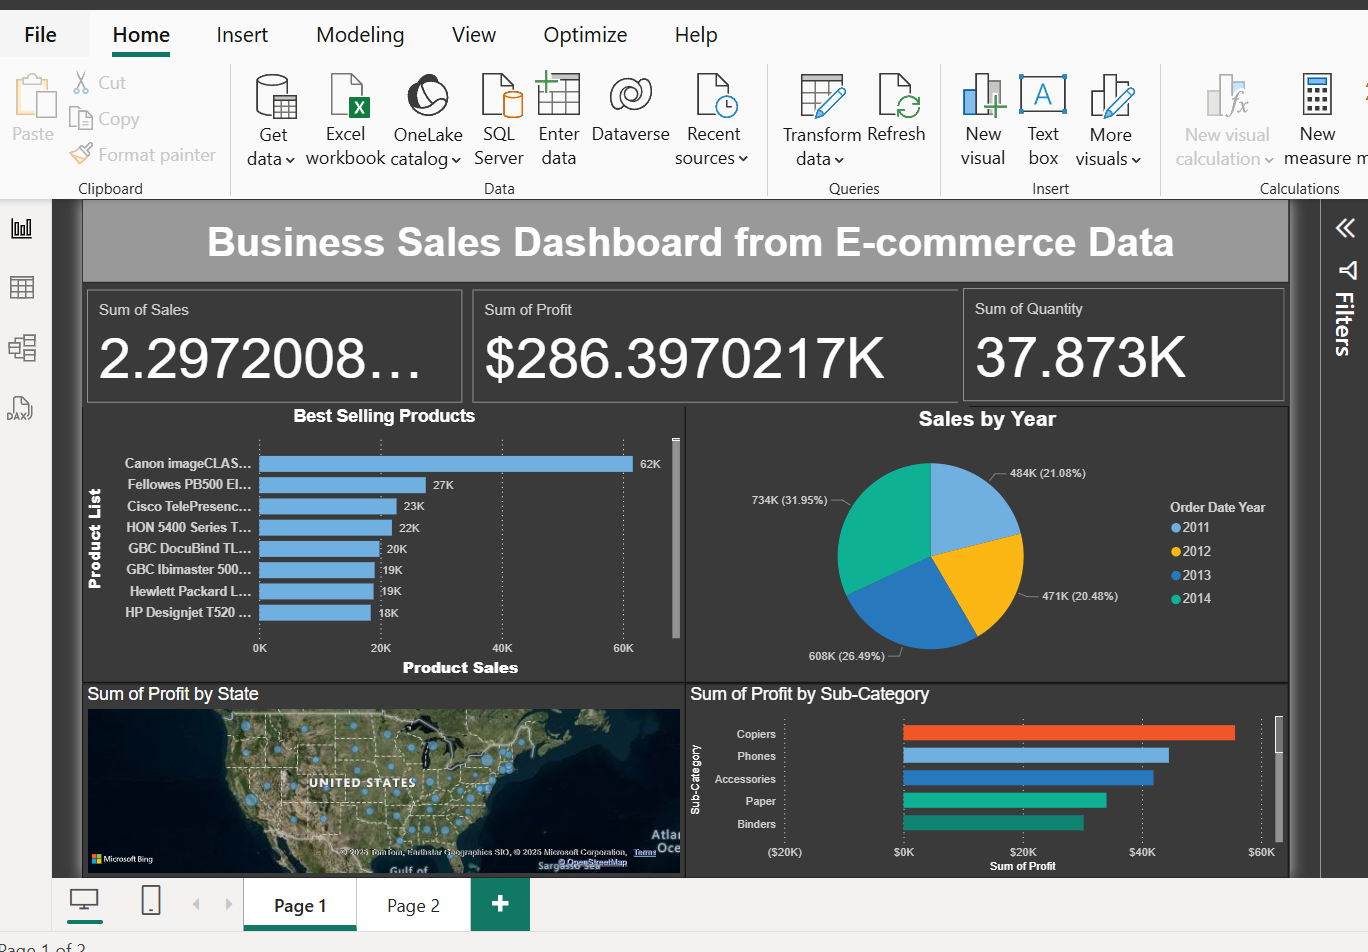

What the dashboard file says about the page in this screenshot:
{"tool":"powerbi","page":{"name":"Page 1","canvas":[1280,720],"ordinal":0},"visuals":[{"type":"barChart","title":"Best Selling  Products","fields":{"Category":["Orders.Product Name"],"Y":["Sum(Orders.Sales)"]},"box":[0,220,640,293.3],"z":0},{"type":"textbox","box":[0,0,1280,88.3],"z":1000},{"type":"pieChart","title":"Sales by Year","fields":{"Category":["Orders.Order Date.Variation.Date Hierarchy.Year","Orders.Order Date.Variation.Date Hierarchy.Quarter","Orders.Order Date.Variation.Date Hierarchy.Month","Orders.Order Date.Variation.Date Hierarchy.Day"],"Y":["Sum(Orders.Sales)"]},"box":[640,220,640,293.3],"z":2000},{"type":"textbox","box":[0,548.6,257.1,117.1],"z":3000},{"type":"cardVisual","fields":{"Data":["Sum(Orders.Sales)"]},"box":[0,90,408.3,130],"z":4000},{"type":"cardVisual","fields":{"Data":["Sum(Orders.Profit)"]},"box":[408.3,90,531.7,130],"z":5000},{"type":"cardVisual","fields":{"Data":["Sum(Orders.Quantity)"]},"box":[928.3,88.3,351.7,130],"z":6000},{"type":"map","fields":{"Category":["Orders.State"],"Size":["Sum(Orders.Profit)"]},"box":[0,513.3,640,206.7],"z":7000},{"type":"barChart","fields":{"Category":["Orders.Sub-Category"],"Y":["Sum(Orders.Profit)"]},"box":[640,513.3,640,206.7],"z":8000}]}

Visuals, with their boxes on the page's 1280x720 design canvas (x1, y1, x2, y2). These are canvas units, not pixel positions in the 1368x952 screenshot, which may show the page scaled, cropped or inside an application window:
"Best Selling  Products" barChart: x1=0 y1=220 x2=640 y2=513
textbox: x1=0 y1=0 x2=1280 y2=88
"Sales by Year" pieChart: x1=640 y1=220 x2=1280 y2=513
textbox: x1=0 y1=549 x2=257 y2=666
cardVisual - Sum(Orders.Sales): x1=0 y1=90 x2=408 y2=220
cardVisual - Sum(Orders.Profit): x1=408 y1=90 x2=940 y2=220
cardVisual - Sum(Orders.Quantity): x1=928 y1=88 x2=1280 y2=218
map - Orders.State x Sum(Orders.Profit): x1=0 y1=513 x2=640 y2=720
barChart - Orders.Sub-Category x Sum(Orders.Profit): x1=640 y1=513 x2=1280 y2=720
